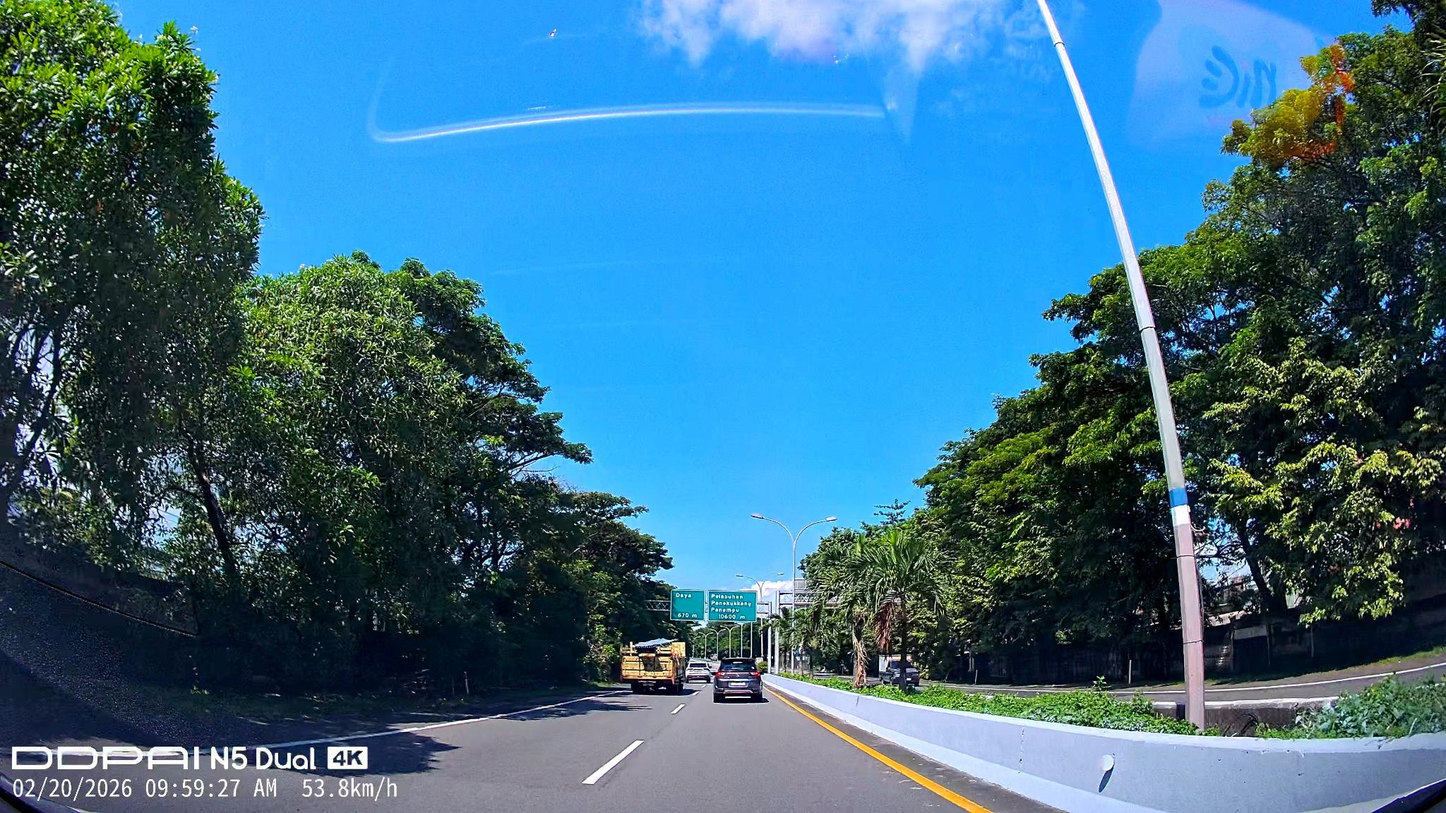rambu_teks: (707, 589, 758, 622), (670, 589, 706, 621)
